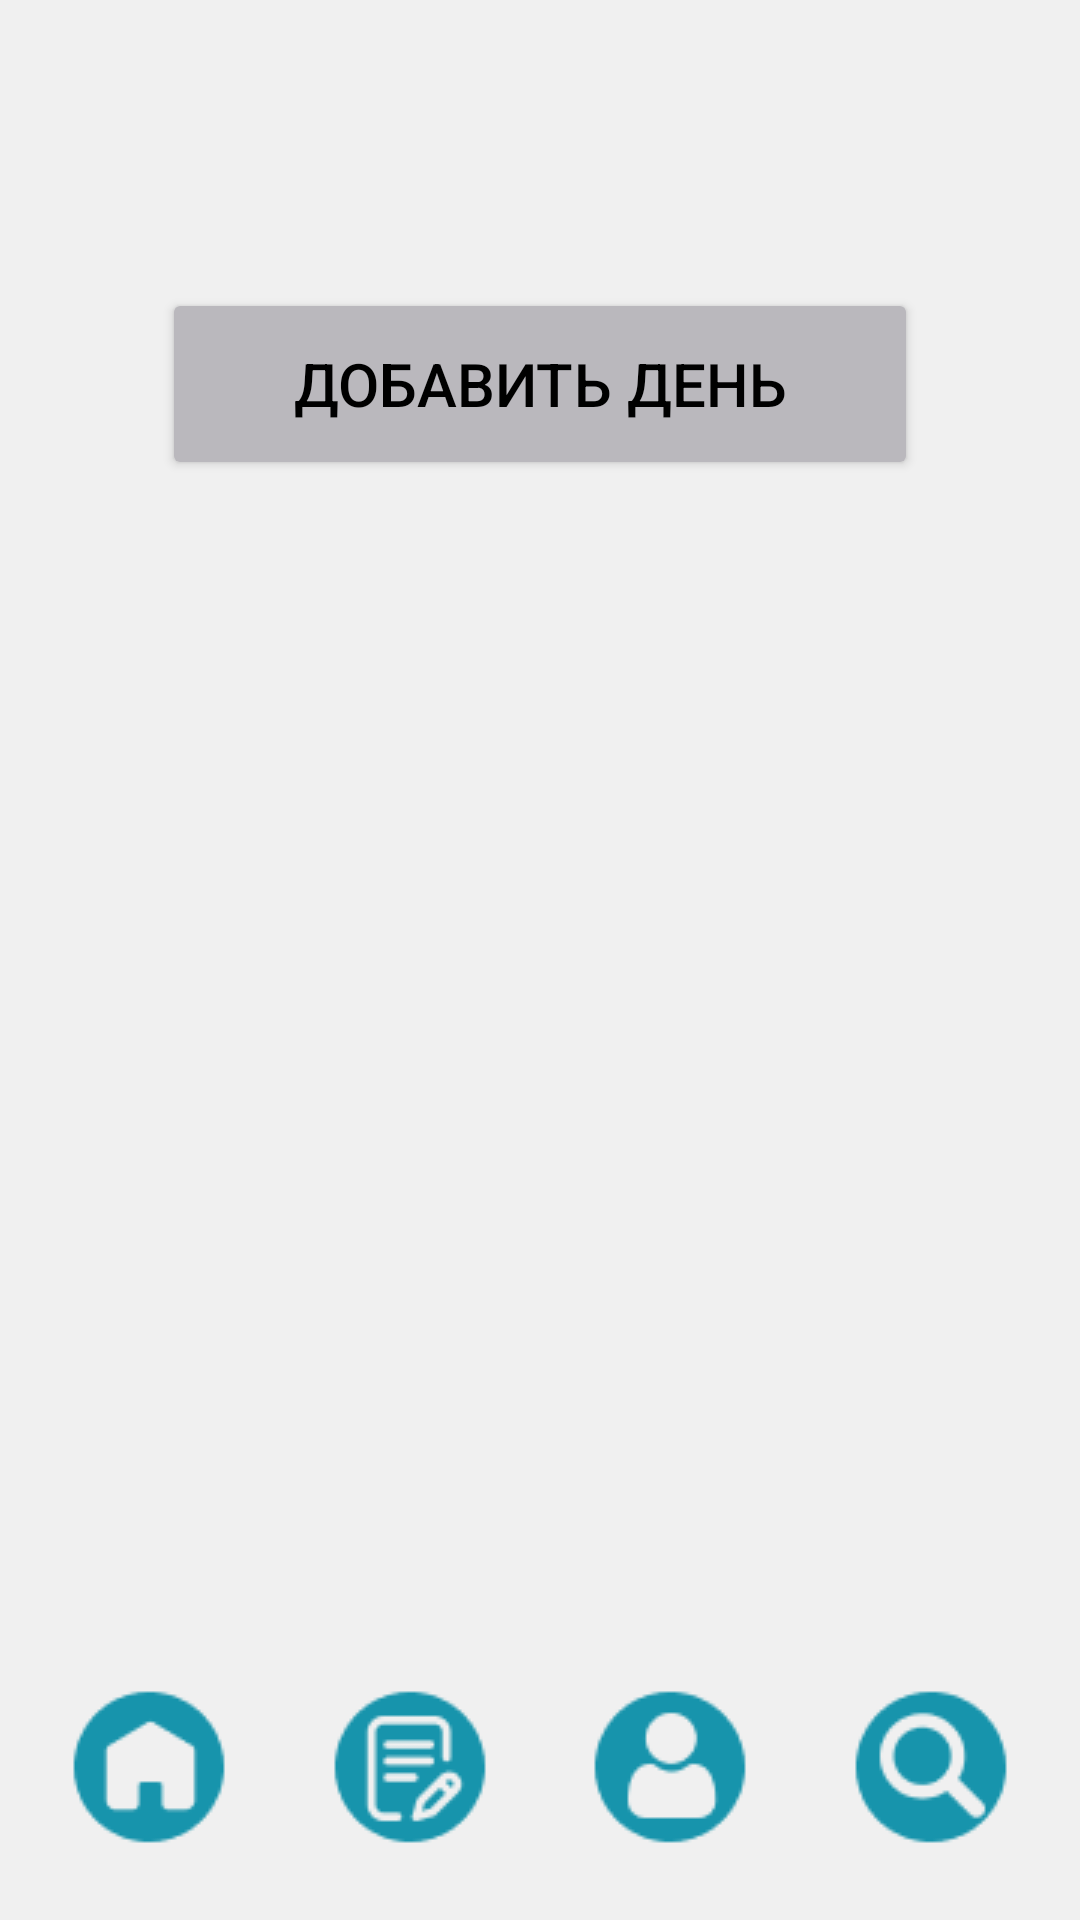

Screen size 1080×1920. Icon name, then its center in pixels as point (x, y):
diary: point (410, 1767)
home: point (149, 1767)
profile: point (670, 1767)
